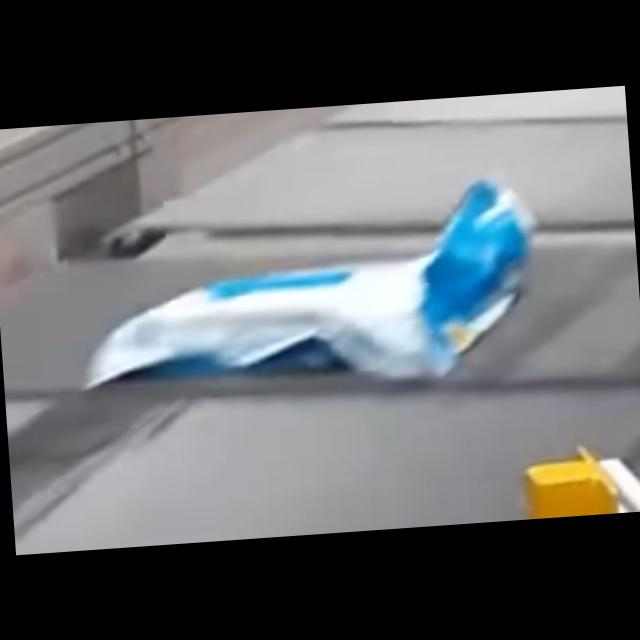mailer: (73, 177, 536, 395)
